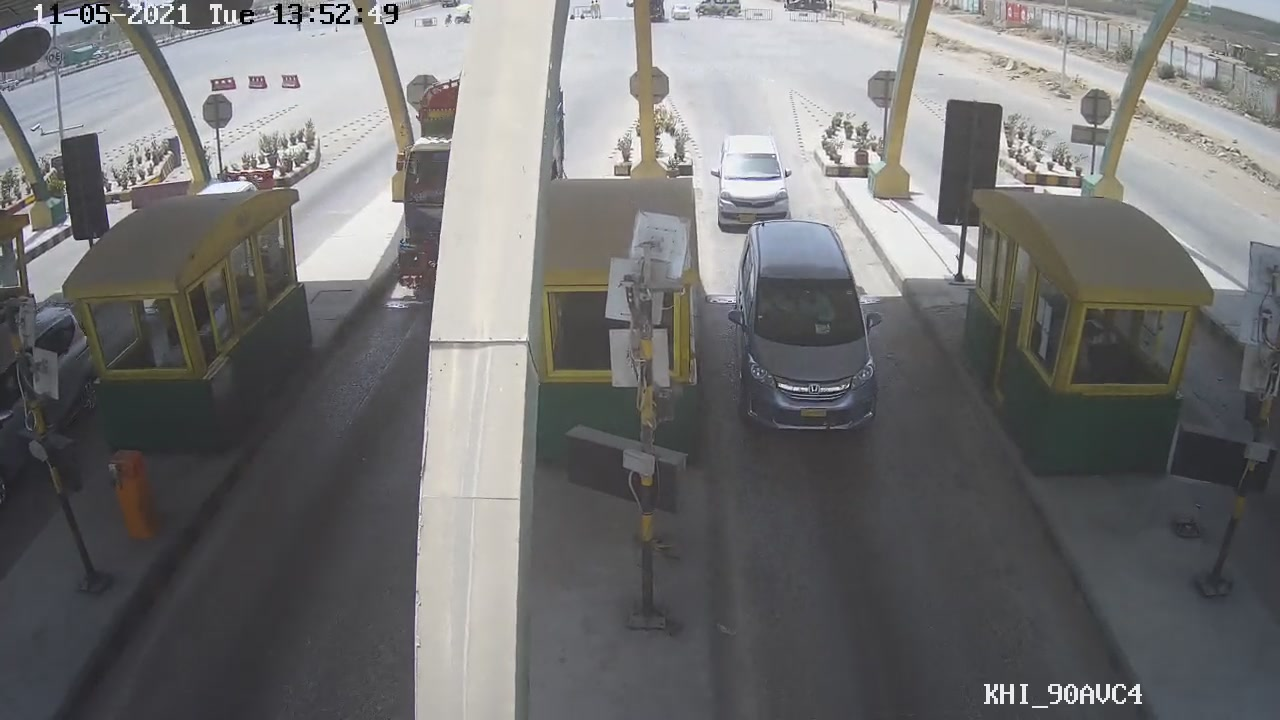F1: (717, 214, 893, 447)
